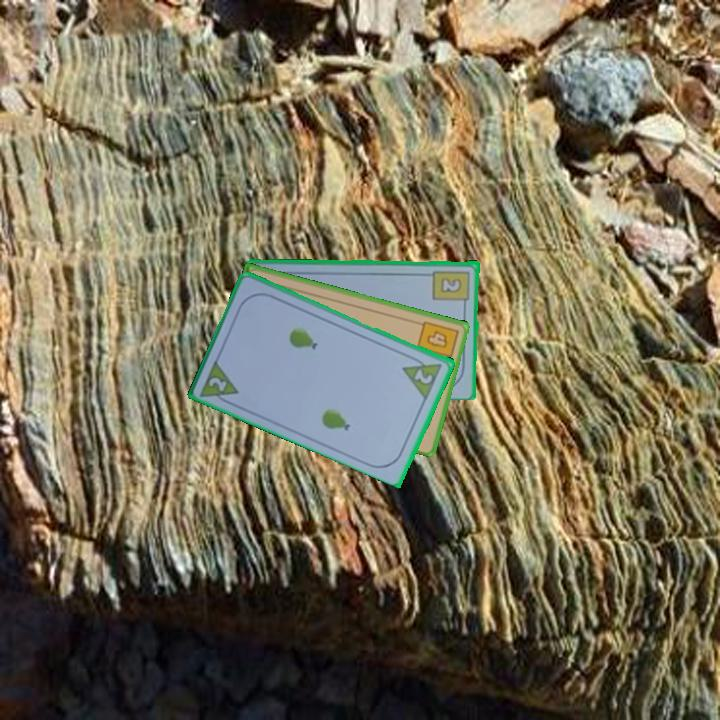2b: (430, 267, 472, 309)
2p: (399, 351, 446, 401), (205, 373, 230, 394)
4b: (413, 317, 461, 367)
